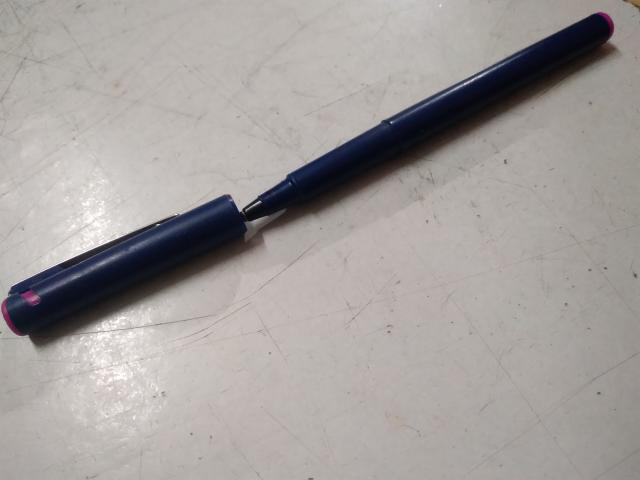PEN: (0, 9, 640, 346)
